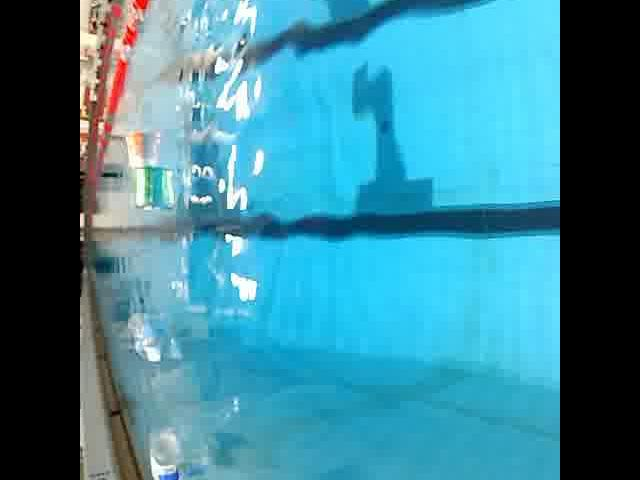Bottle: (145, 418, 189, 480), (124, 306, 168, 366), (122, 123, 150, 174)
Can: (131, 162, 161, 214)
